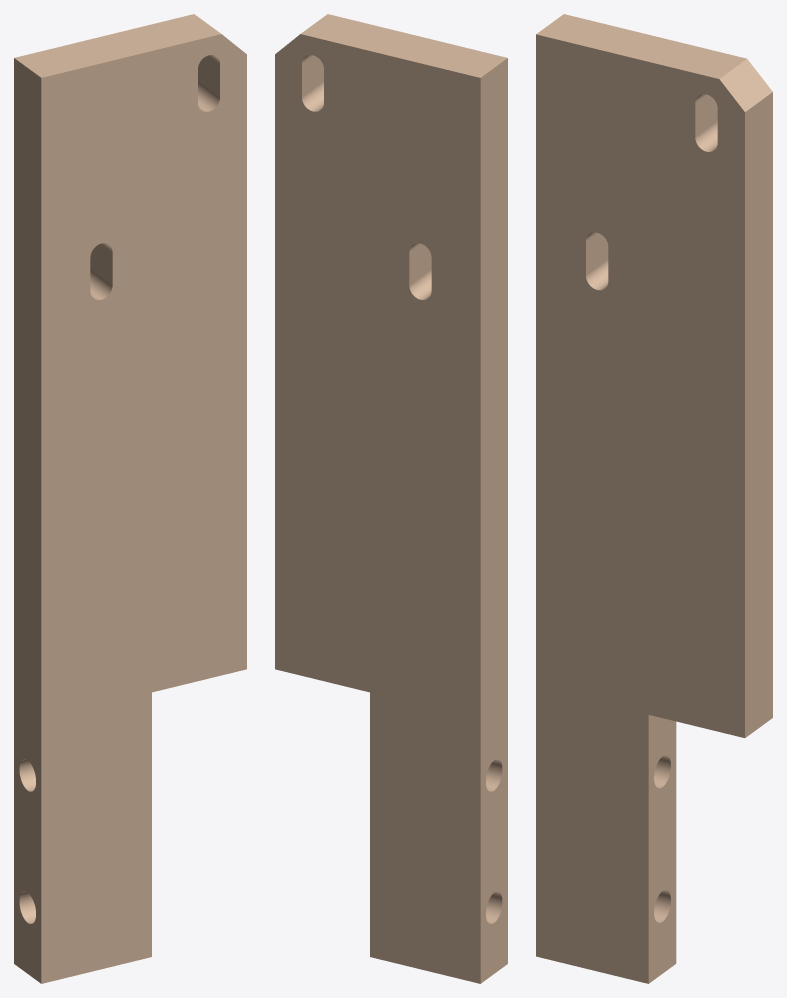
3 views of the same model, side by side, from view 1: azimuth 30°, elevation 25°; view 2: azimuth 150°, elevation 25°; view 3: azimuth 330°, elevation 25° (orthographic).
Visible parts, largest first — view 1: Node1; view 2: Node1; view 3: Node1.
Boxes of the visible parts, x1=… form: Node1: x1=14, y1=14, x2=246, y2=983; Node1: x1=275, y1=14, x2=507, y2=983; Node1: x1=536, y1=14, x2=772, y2=983.
Size of the model in its own units: 65 by 274 by 15.
